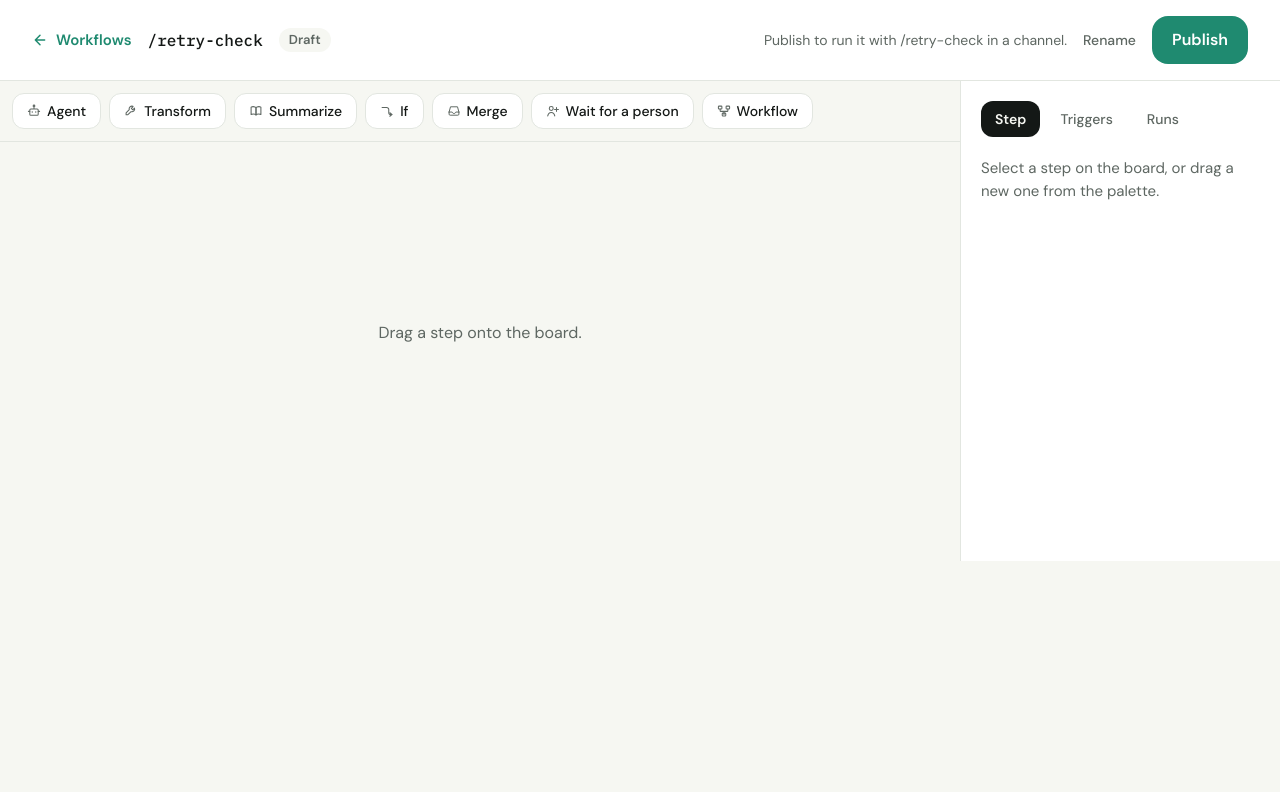
Scenario: workflows/[id]/+page.svelte › creates a webhook and reveals its secret exactly once
Click the button "Triggers" at (1087, 119), box [1046,101,1127,137]
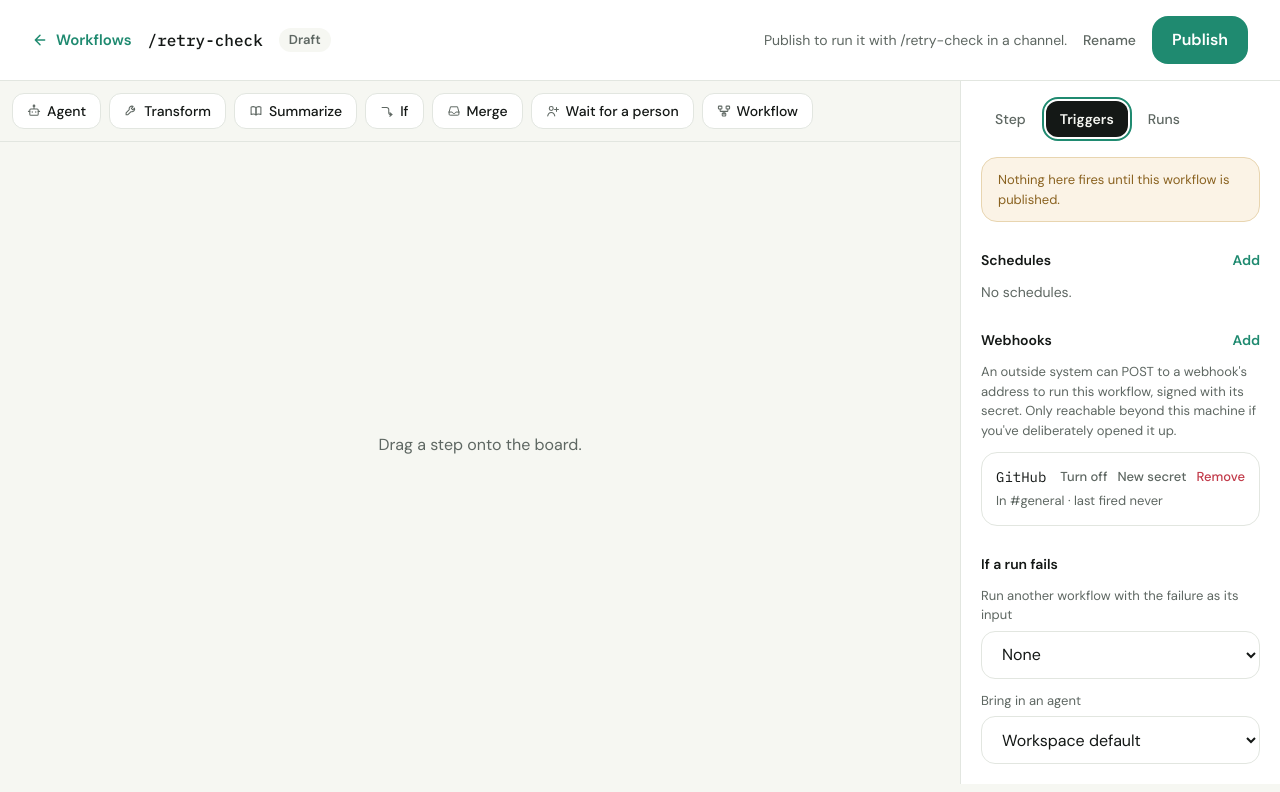
Click the button "Add" in the row of "Webhooks" at (1246, 340), box [1232,330,1260,350]
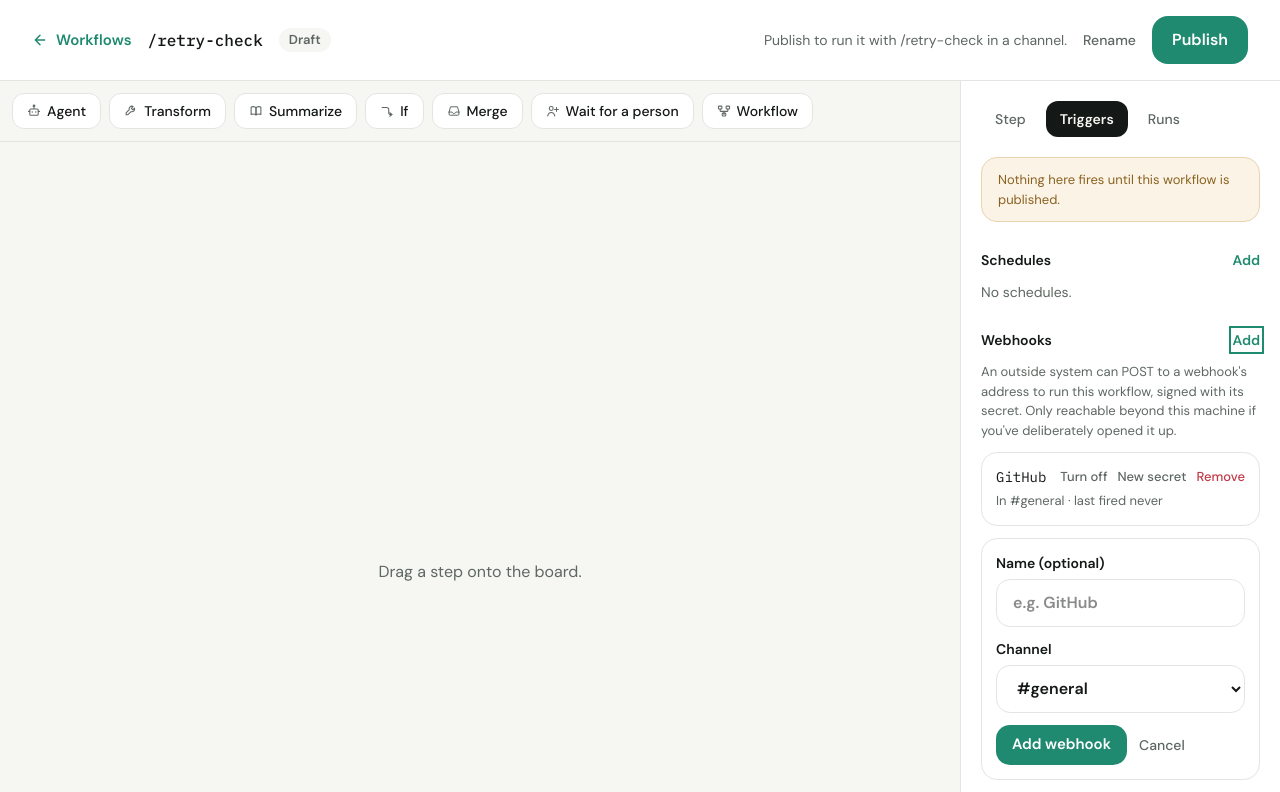
Click the button "Add webhook" at (1062, 744), box [996,724,1127,764]
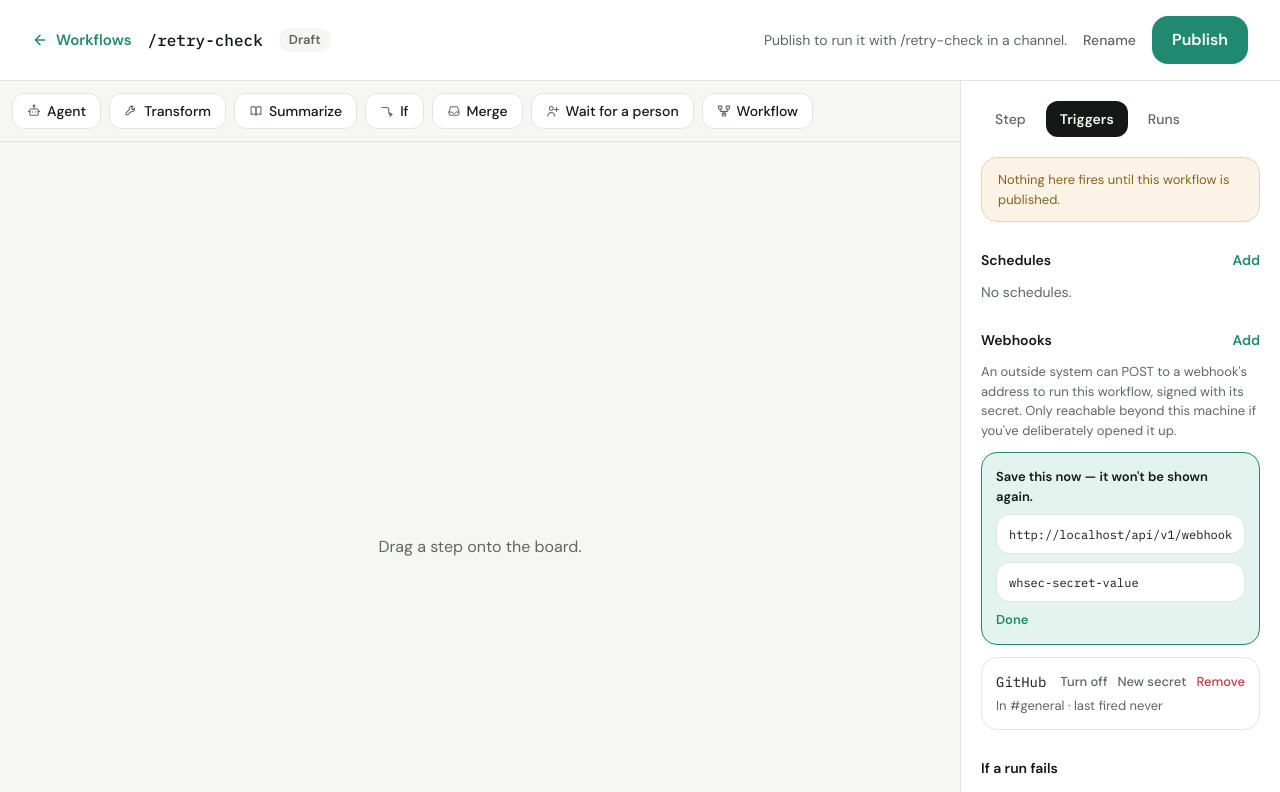
Expected: the field named "Webhook secret" holds "whsec-secret-value", [996,562,1245,602]
